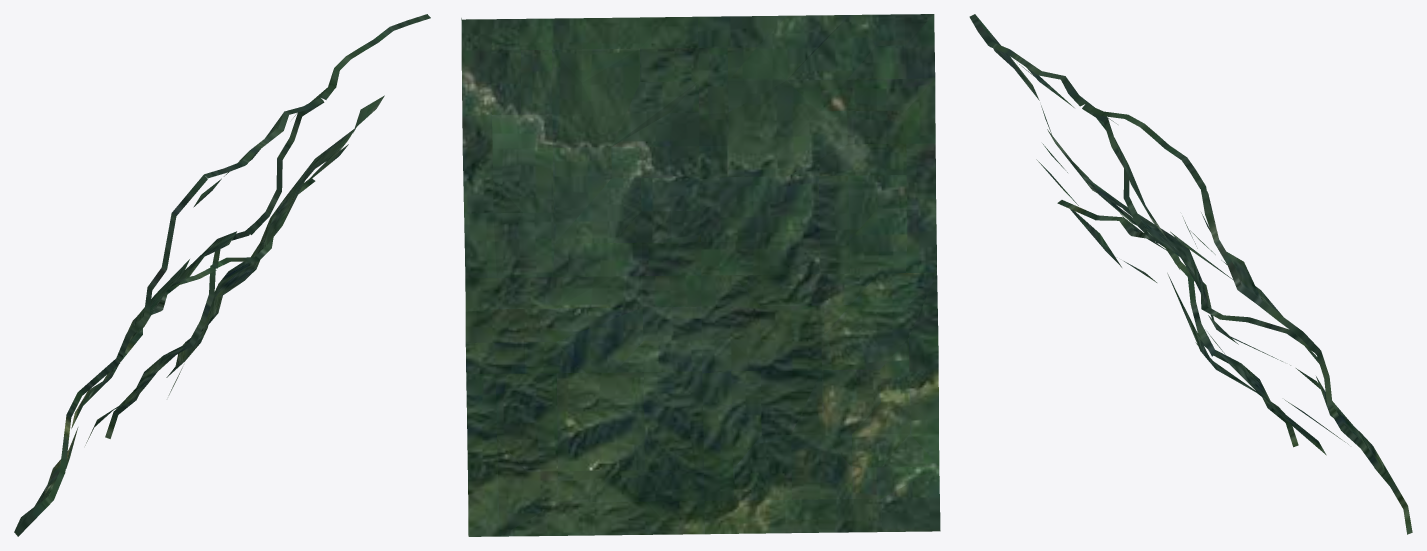
The picture shows the model from 3 angles, left to right: view 1: azimuth 30°, elevation 25°; view 2: azimuth 150°, elevation 25°; view 3: azimuth 270°, elevation 25°; orthographic projection. The views are drawn at different scales.
Size of the model in its own units: 10015 by 8914 by 8614.
Materials: 1 (1 with a texture image).
